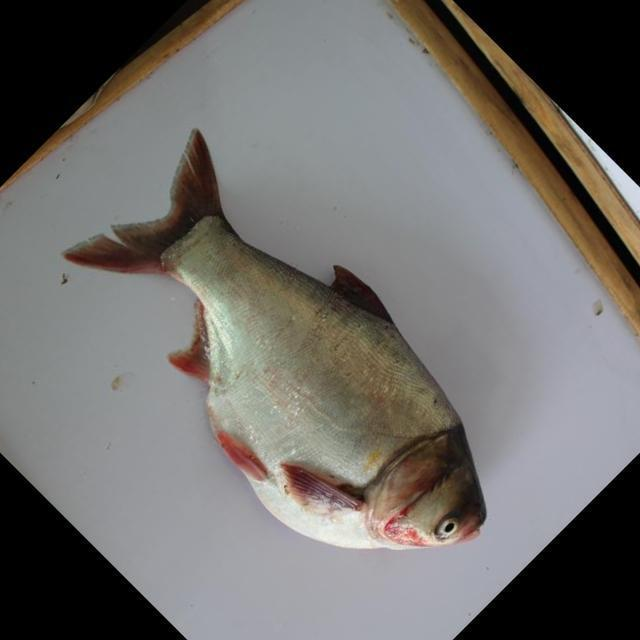Silver Carp: (54, 125, 498, 590)
